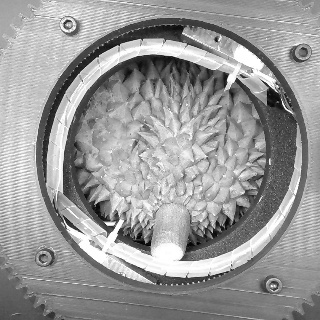base: (152, 195, 194, 225)
end: (150, 242, 184, 261)
